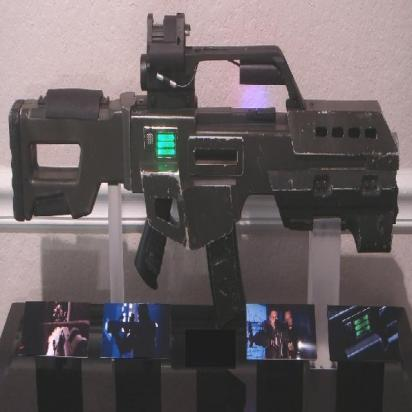Gun: (8, 10, 401, 332)
